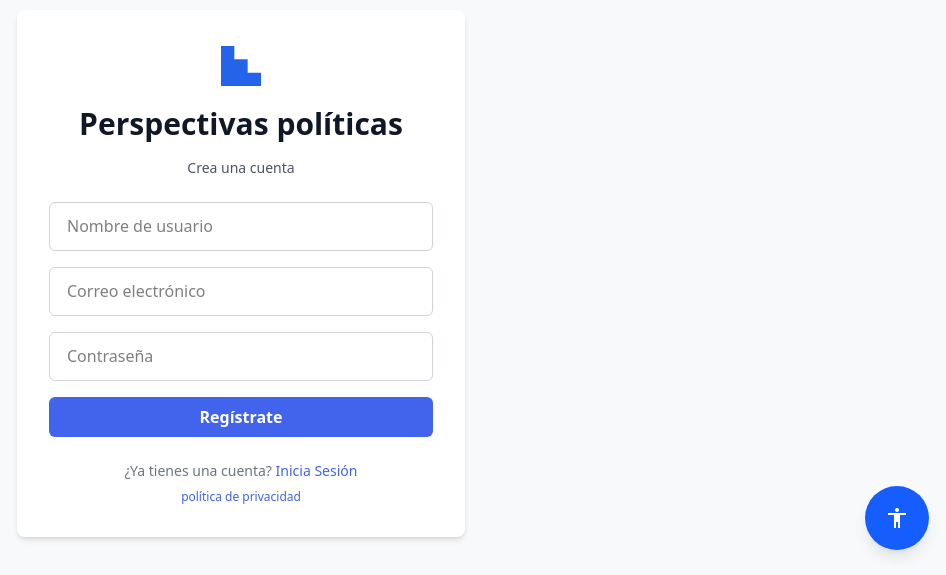
Test: Register Component › redirects to / on successful registration
Step 1. Type "newuser" into the field with placeholder "Nombre de usuario" → (241, 226), box [49,202,433,250]
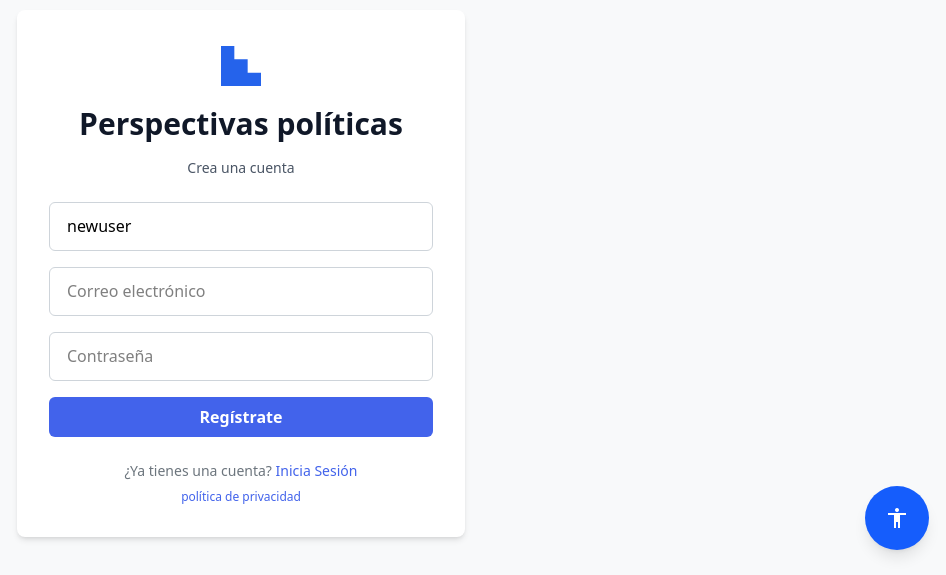
Step 2. Type "new@example.com" into the field with placeholder "Correo electrónico" → (241, 291), box [49,266,433,316]
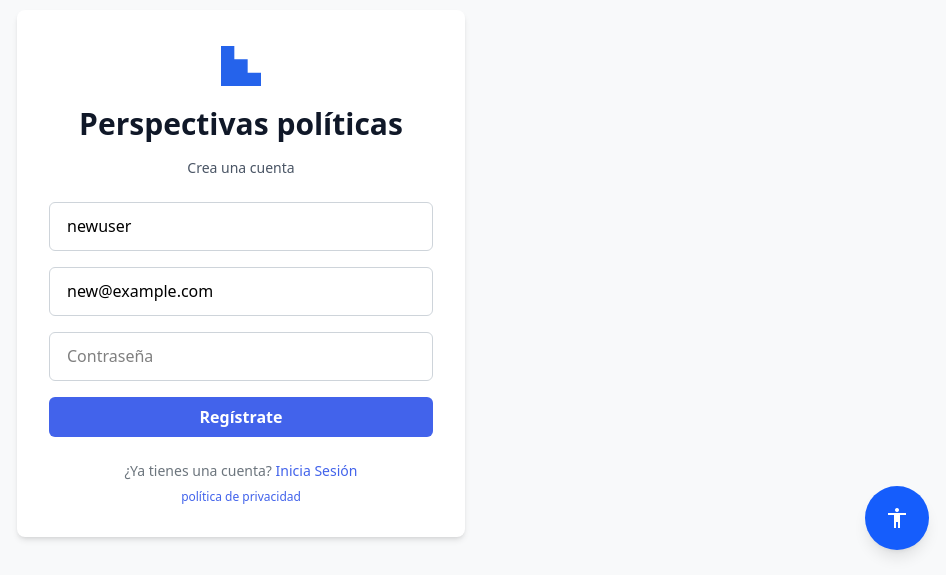
Step 3. Type "newpassword123" into the password field with placeholder "Contraseña" → (241, 356), box [49,332,433,380]
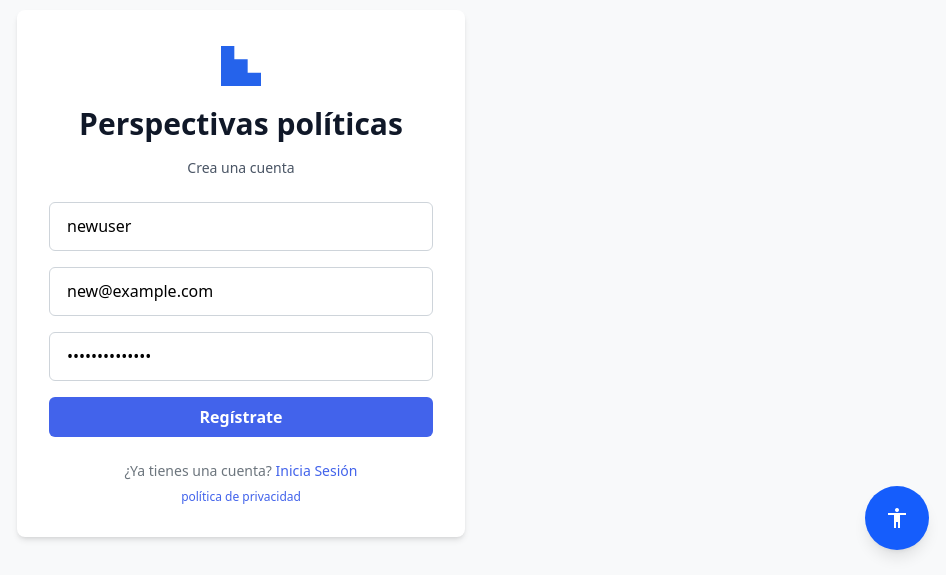
Step 4. Click the button "Regístrate" → (241, 416), box [49,396,433,436]
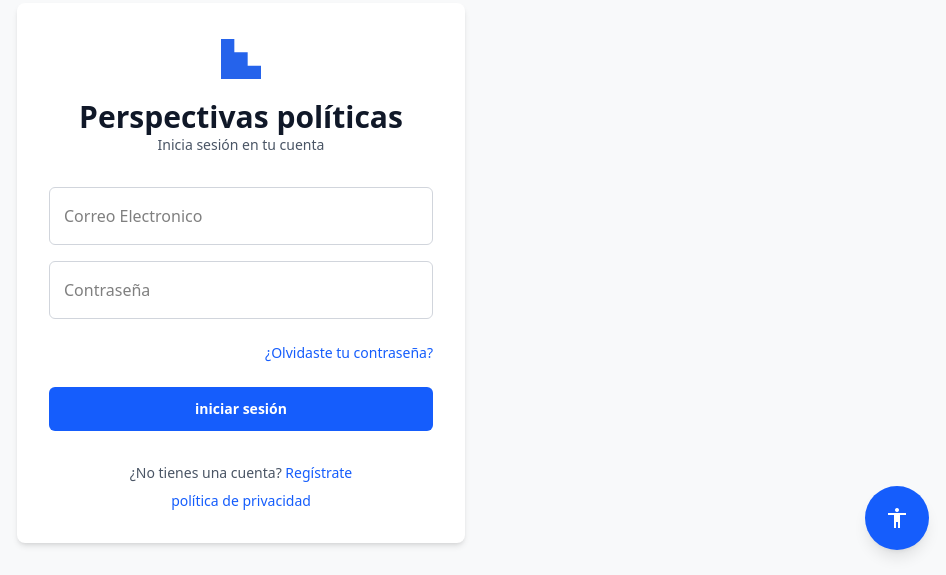
Now the field with placeholder "Correo Electronico" is shown, box [49,187,433,245]
